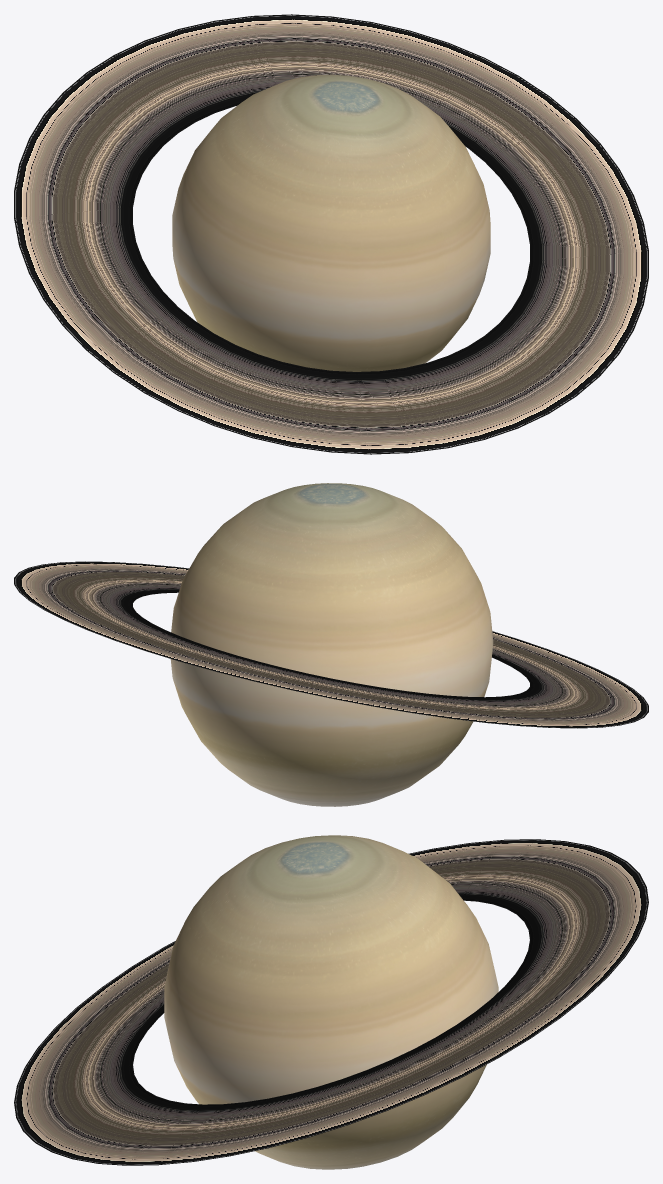
Rendered from saturn.glb.
The picture shows the model from 3 angles, top to bottom: view 1: azimuth 30°, elevation 25°; view 2: azimuth 150°, elevation 25°; view 3: azimuth 270°, elevation 25°; orthographic projection. The views are drawn at different scales.
Parts seen in each view (by area): view 1: Rings, Sphere; view 2: Sphere, Rings; view 3: Sphere, Rings.
Boxes of the visible parts, x1=… form: Rings: x1=14, y1=14, x2=648, y2=454; Sphere: x1=172, y1=74, x2=490, y2=371; Sphere: x1=170, y1=483, x2=493, y2=806; Rings: x1=14, y1=561, x2=648, y2=728; Sphere: x1=164, y1=835, x2=498, y2=1169; Rings: x1=14, y1=839, x2=648, y2=1165.
Size of the model in its own units: 7.98 by 3.99 by 7.56.
Materials: 2 (2 with a texture image).
